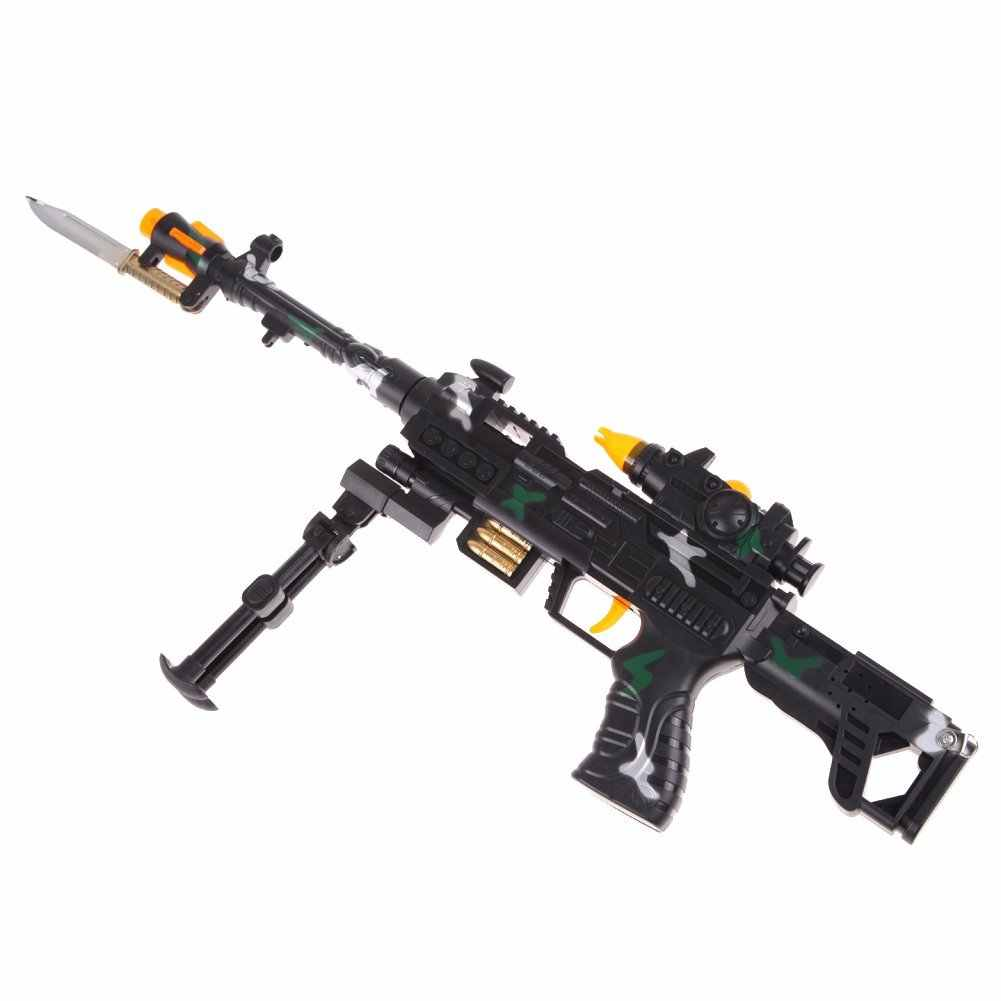Arma Falsa: (24, 173, 985, 864)
